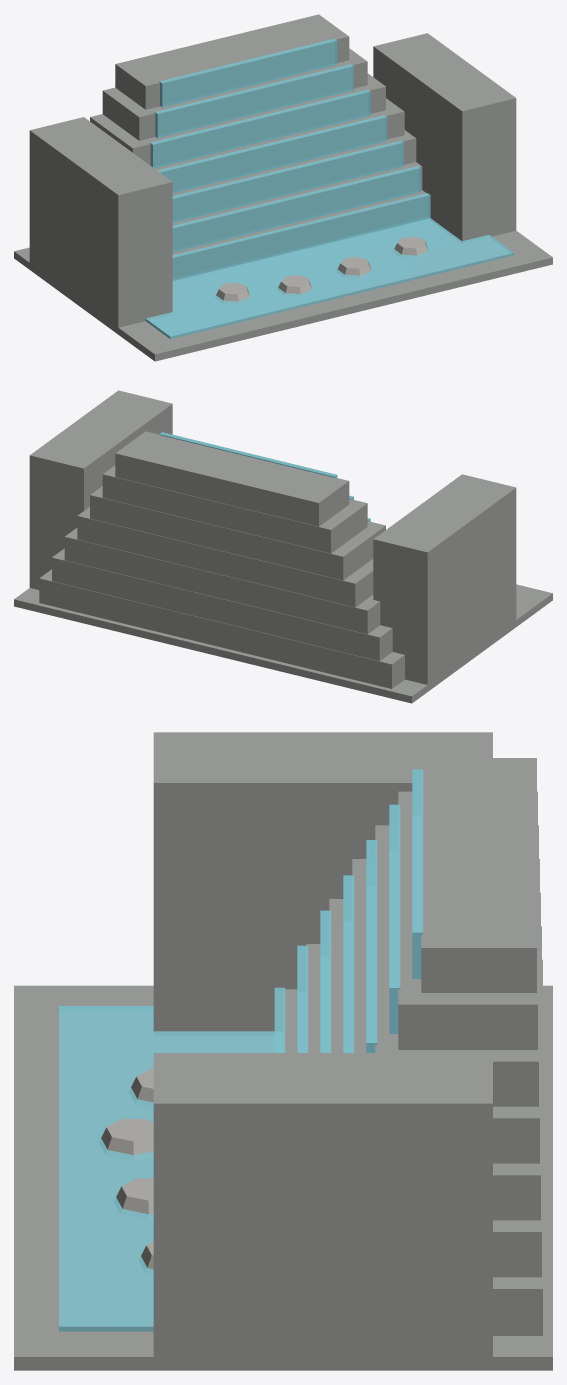
File: lm_39_thac_pongour_7_tier_basalt_cascade.glb
3 views of the same model, one above another, from view 1: azimuth 30°, elevation 25°; view 2: azimuth 150°, elevation 25°; view 3: azimuth 270°, elevation 25° (orthographic). The views are drawn at different scales.
Parts seen in each view (by area): view 1: lm_39_thac_pongour_7_tier_basalt_cascade; view 2: lm_39_thac_pongour_7_tier_basalt_cascade; view 3: lm_39_thac_pongour_7_tier_basalt_cascade.
Boxes of the visible parts, x1,y1,x2,y2 form: lm_39_thac_pongour_7_tier_basalt_cascade: (14, 14, 552, 361); lm_39_thac_pongour_7_tier_basalt_cascade: (14, 390, 552, 703); lm_39_thac_pongour_7_tier_basalt_cascade: (14, 732, 552, 1370).
Bounding box in the file's own units: 88 × 36.9 × 54.
